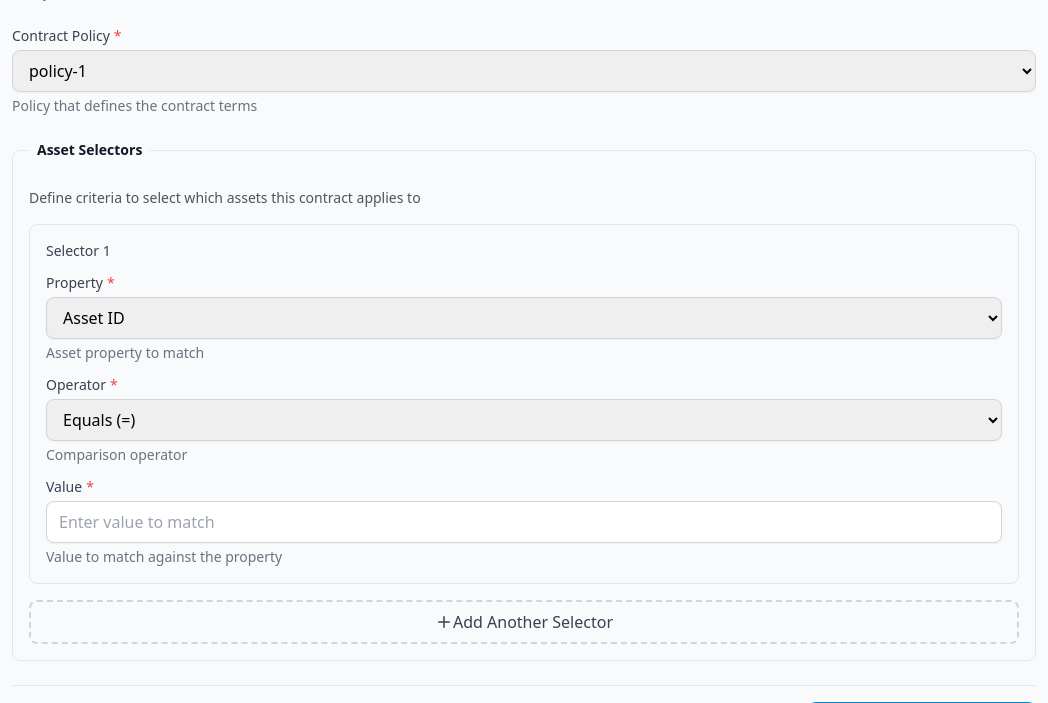
Scenario: ContractForm › asset selectors › shows remove button when multiple selectors exist
The width and height of the screenshot is (1048, 703).
(page scrolled)
Click the button "Add Another Selector".
click(524, 622)  # box left=29, top=600, right=1019, bottom=644
(page scrolled)
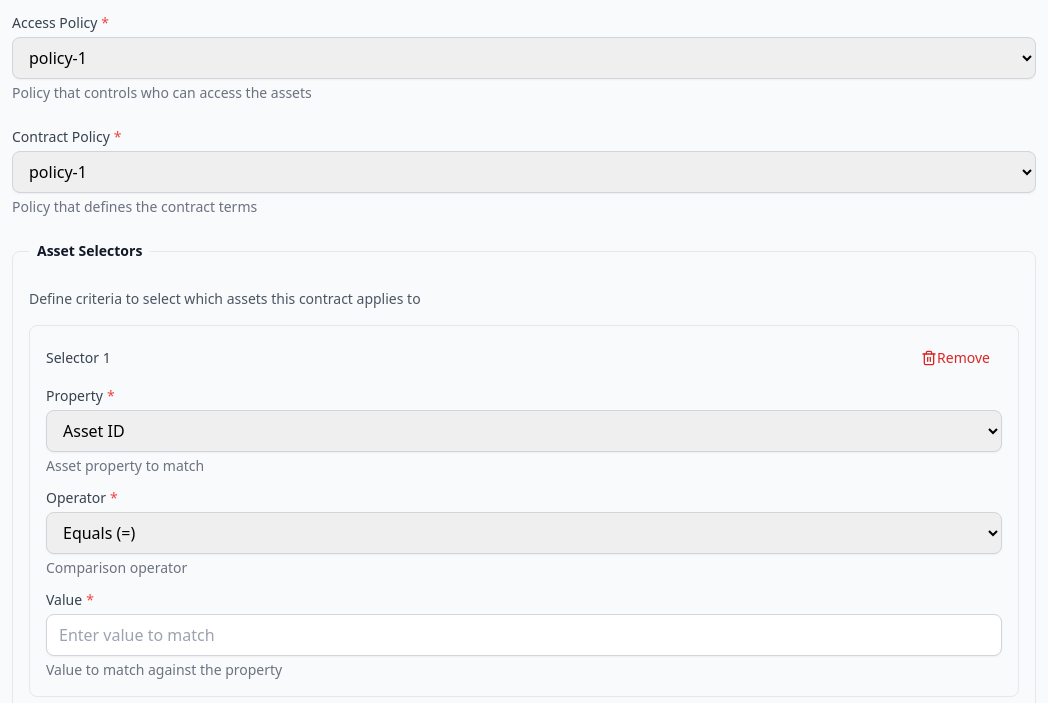
Check: the 1st text "Remove" is shown, box left=937, top=348, right=990, bottom=368
